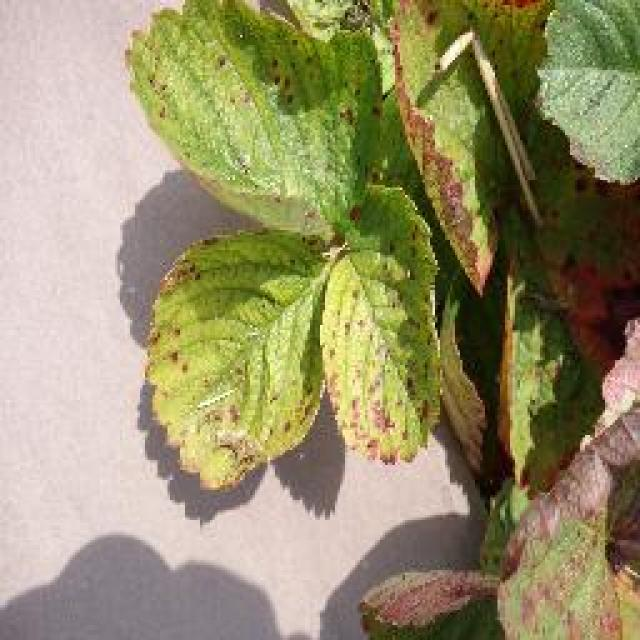Strawberry___Leaf_scorch: (62, 0, 640, 640)
